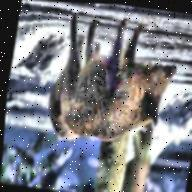boar: (37, 16, 185, 164)
